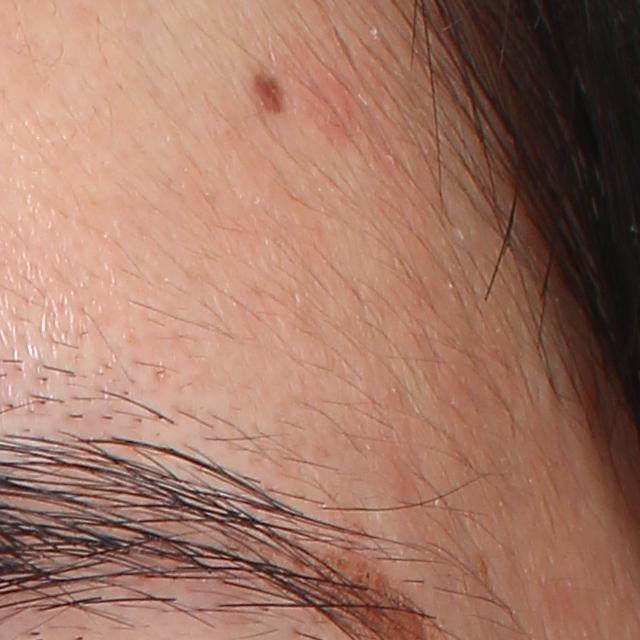nevus: (251, 69, 295, 116)
